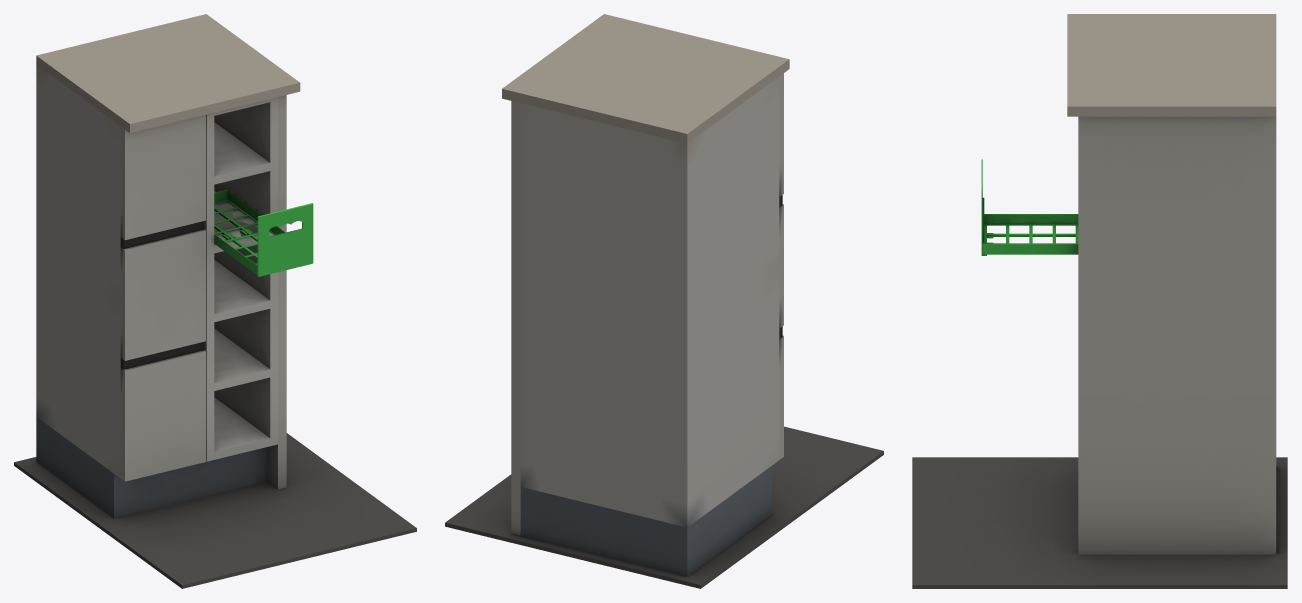
Rendered from cajones_cajon_abierto.glb.
3 renders of one model, left to right at view 1: azimuth 30°, elevation 25°; view 2: azimuth 150°, elevation 25°; view 3: azimuth 270°, elevation 25°, orthographic. The views are drawn at different scales.
Parts seen in each view (by area): view 1: cajones_cajon_abierto; view 2: cajones_cajon_abierto; view 3: cajones_cajon_abierto.
Part boxes in pixels (x1=…): cajones_cajon_abierto: x1=14, y1=14, x2=416, y2=588; cajones_cajon_abierto: x1=445, y1=14, x2=883, y2=588; cajones_cajon_abierto: x1=912, y1=14, x2=1287, y2=588.
Size of the model in its own units: 0.546 by 0.911 by 0.678.
